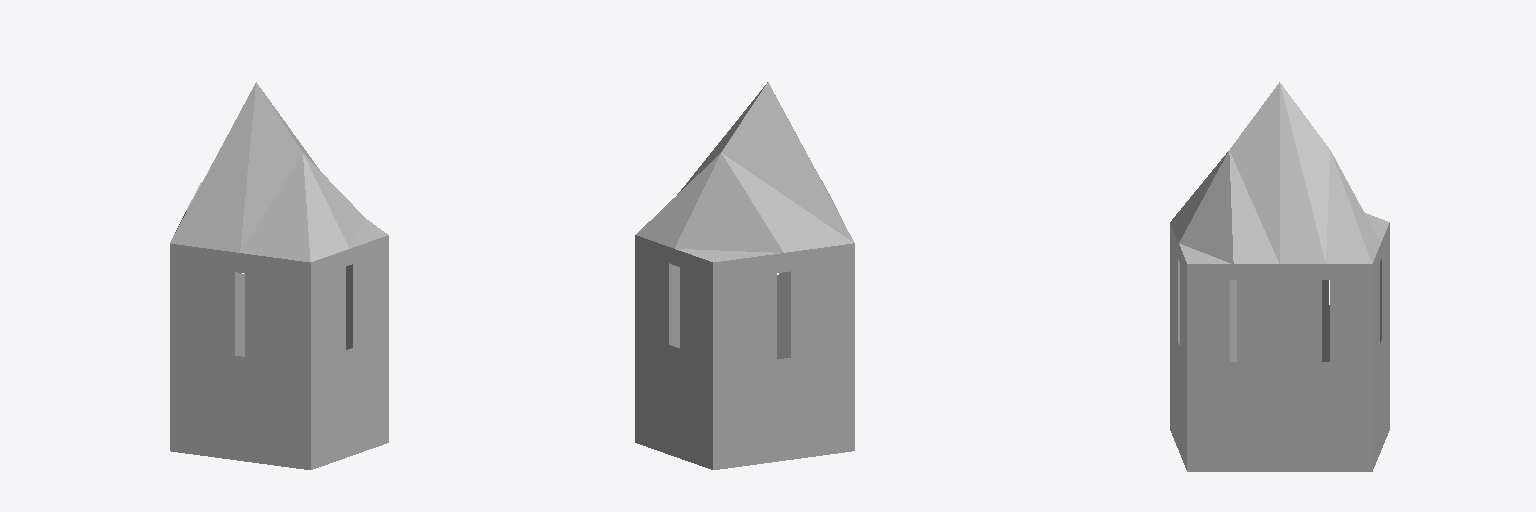
The model's file is walls.obj.
The picture shows the model from 3 angles: view 1: azimuth 30°, elevation 25°; view 2: azimuth 150°, elevation 25°; view 3: azimuth 270°, elevation 25°; orthographic projection.
Visible parts, largest first — view 1: Plane.002; view 2: Plane.002; view 3: Plane.002.
Boxes of the visible parts, <box> form: Plane.002: <box>170,82,388,469</box>; Plane.002: <box>635,82,854,469</box>; Plane.002: <box>1170,82,1389,471</box>.
Size of the model in its own units: 1.99 by 3.84 by 2.19.